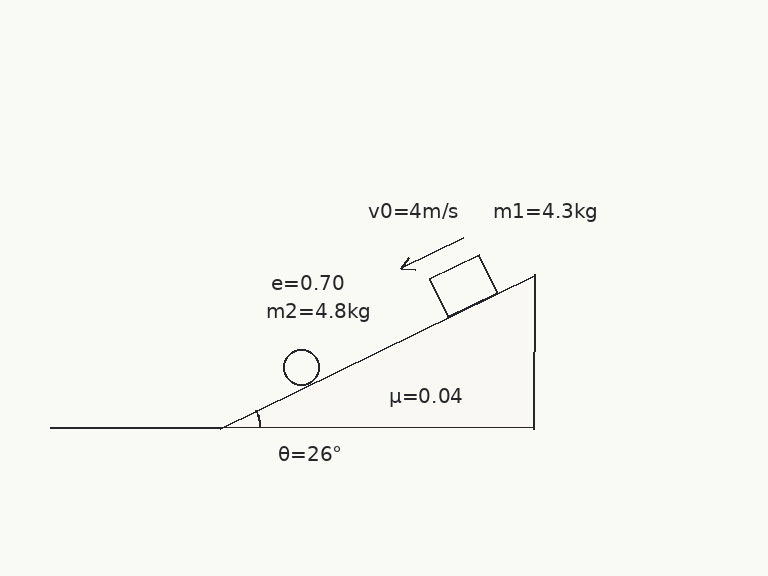ball: (281, 347, 321, 387)
block: (427, 253, 499, 318)
ramp: (218, 272, 536, 429)
